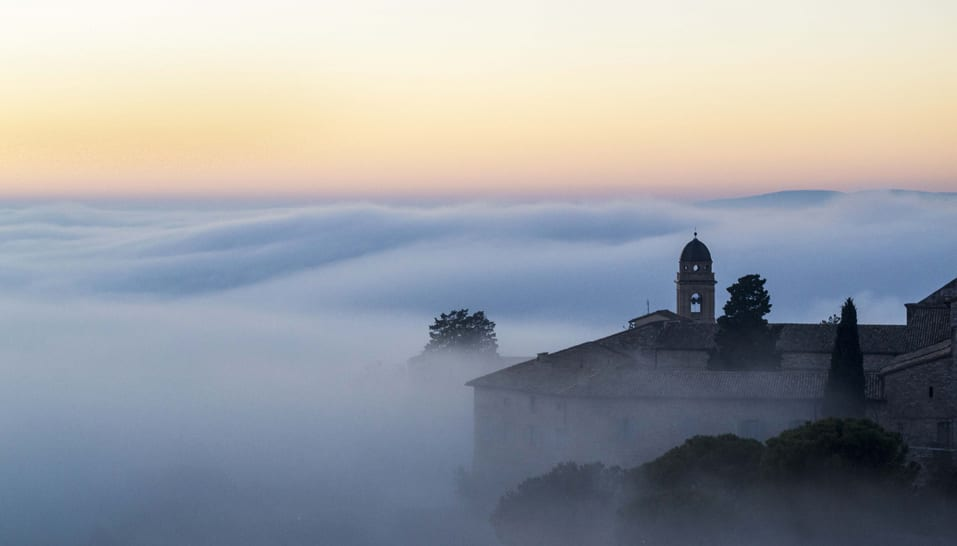Stratus: (22, 159, 946, 306), (6, 303, 477, 535)
